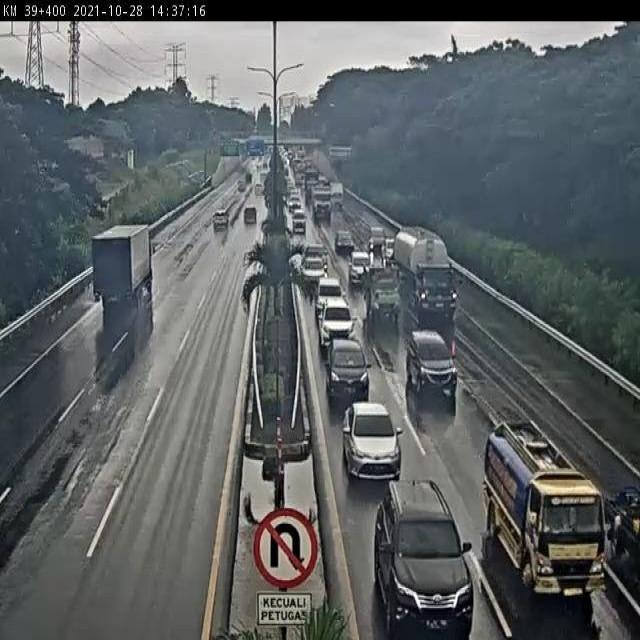big truck: (393, 224, 458, 317), (92, 224, 155, 308), (310, 181, 335, 220)
car: (373, 475, 473, 636), (341, 399, 399, 476), (405, 331, 458, 397), (324, 332, 371, 403), (322, 303, 355, 349), (315, 275, 346, 321), (345, 245, 374, 284), (299, 253, 324, 290), (333, 228, 359, 255), (366, 224, 386, 255), (301, 240, 329, 261), (212, 208, 230, 232), (291, 210, 308, 233), (242, 205, 258, 228)
small truck: (483, 419, 605, 597), (602, 484, 640, 581), (363, 269, 402, 328)
